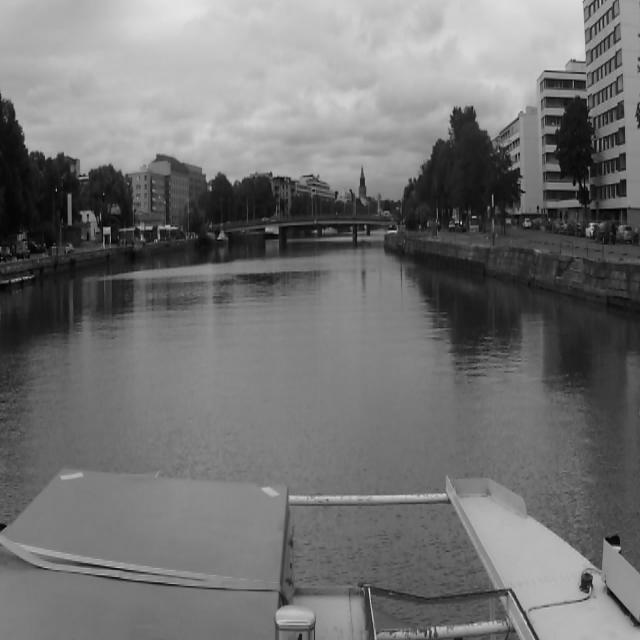ship: (134, 239, 150, 257), (207, 222, 215, 241), (218, 231, 228, 240)
